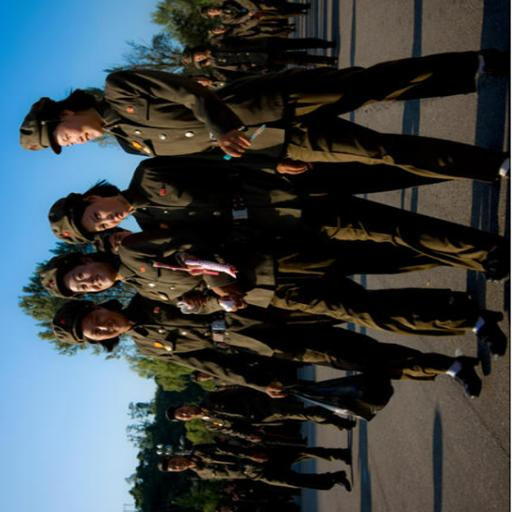north army: (14, 29, 469, 420)
